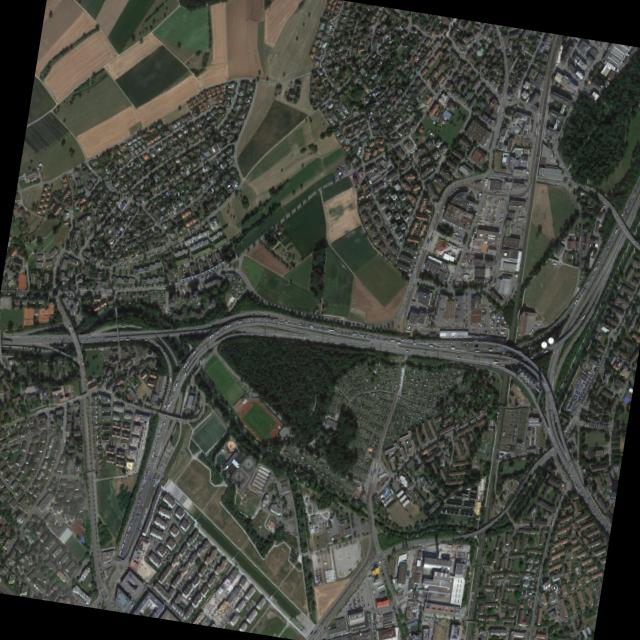storage-tank: (547, 335, 555, 344), (540, 340, 548, 349)
